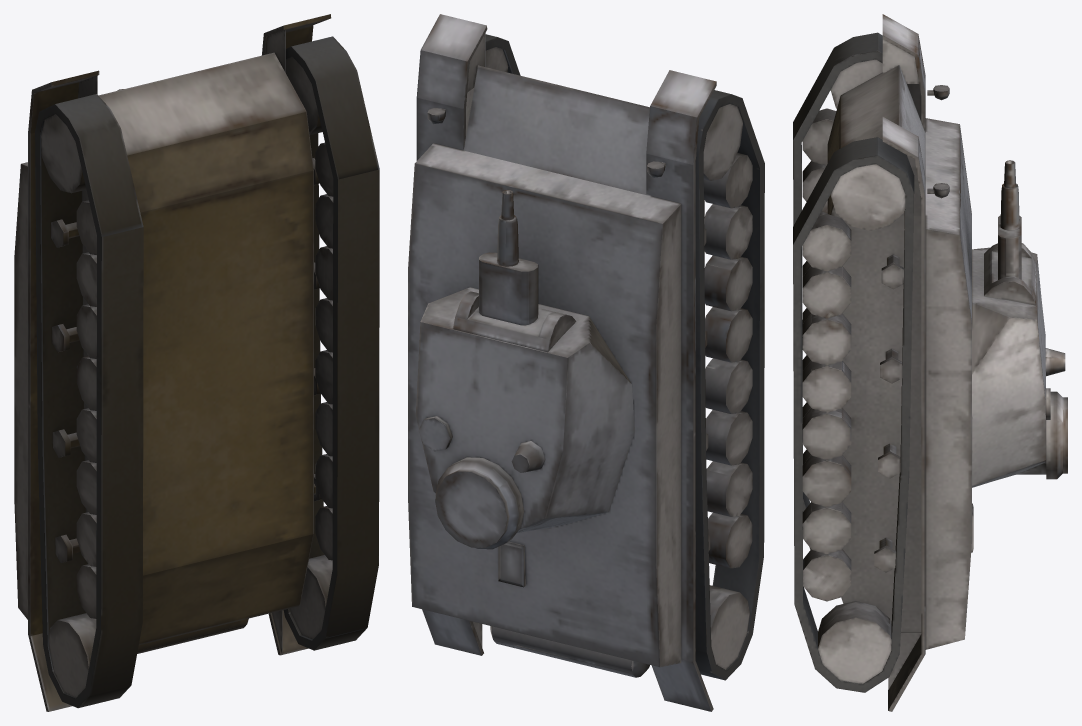
3 renders of one model, left to right at view 1: azimuth 30°, elevation 25°; view 2: azimuth 150°, elevation 25°; view 3: azimuth 270°, elevation 25°, orthographic. The views are drawn at different scales.
Parts seen in each view (by area): view 1: Pz.IV_C Body; view 2: Pz.IV_C Body, Pz.IV_C Turret; view 3: Pz.IV_C Body, Pz.IV_C Turret.
Boxes of the visible parts, x1,y1,x2,y2 form: Pz.IV_C Body: [14, 14, 379, 711]; Pz.IV_C Body: [408, 14, 764, 711]; Pz.IV_C Turret: [415, 190, 634, 549]; Pz.IV_C Body: [793, 14, 973, 711]; Pz.IV_C Turret: [972, 160, 1067, 487].
Bounding box in the file's own units: 110 × 238 × 103.
